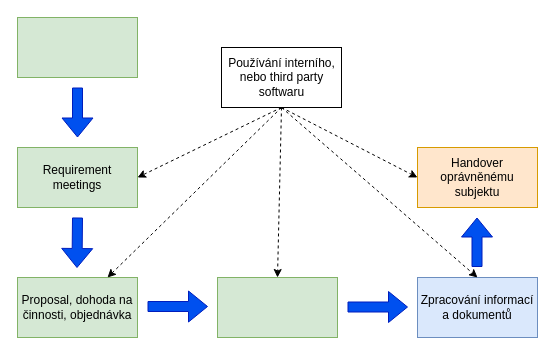
This 555x355 diagram has some shape labels left out. Here are the shapes that lost their labels. From the top down, the box of each, then its label:
(16, 16, 138, 78): Akvizice klienta (Dodavatel)
(216, 276, 338, 338): Předání informací a dokumentů
